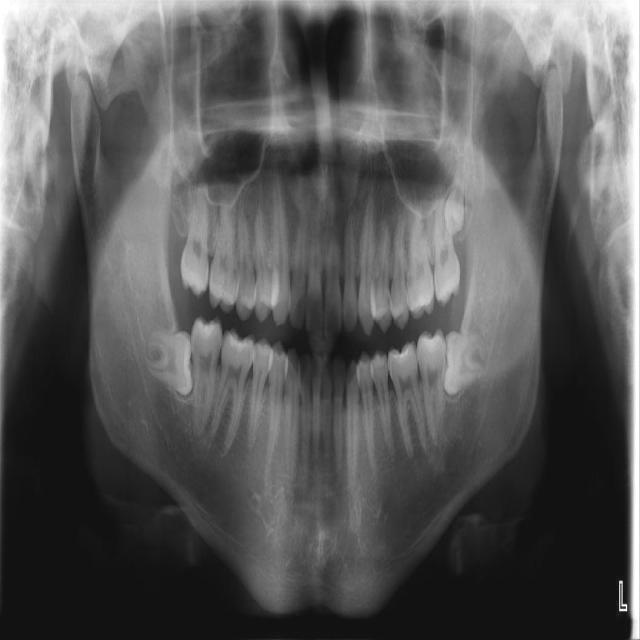Filling: (390, 345, 411, 363), (419, 332, 439, 349)
impacted tooth: (142, 332, 193, 395), (444, 330, 490, 394), (443, 152, 467, 234)
